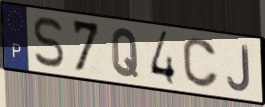4: (147, 28, 179, 89)
7: (71, 18, 102, 74)
C: (180, 36, 221, 90)
J: (226, 43, 252, 94)
Q: (110, 26, 140, 79)
S: (32, 15, 66, 70)
